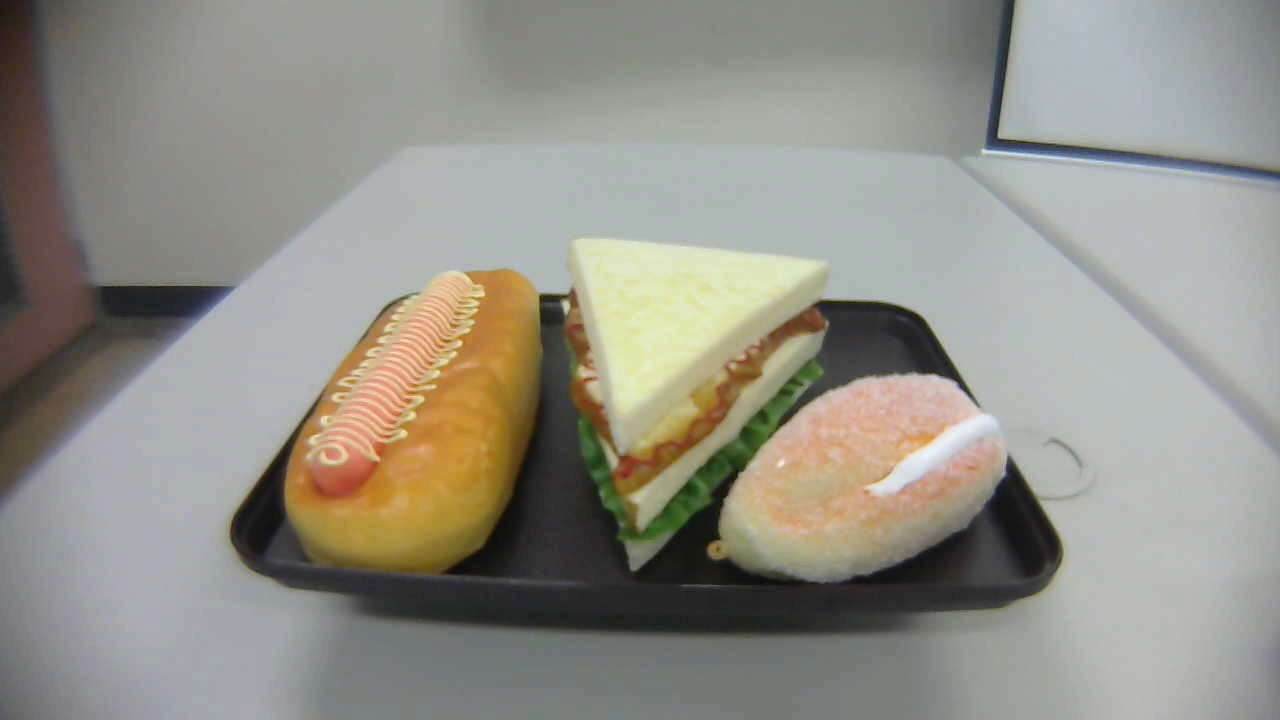coconut: (707, 373, 1008, 587)
hot dog: (284, 267, 543, 580)
sandwich: (557, 236, 825, 575)
